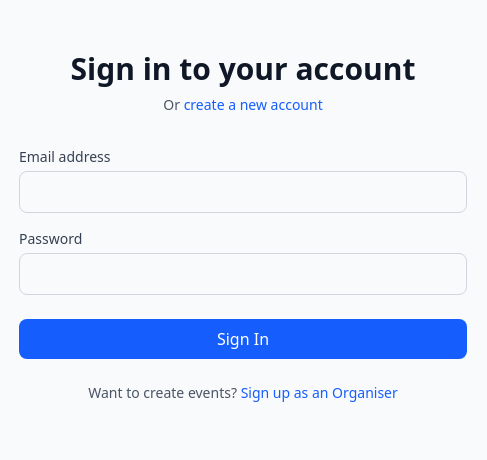
LoginView › shows "Wrong credentials" error when the server returns 401
Type "test@example.com" into the field labelled "Email address" at (243, 192), box 19,171 -> 467,213
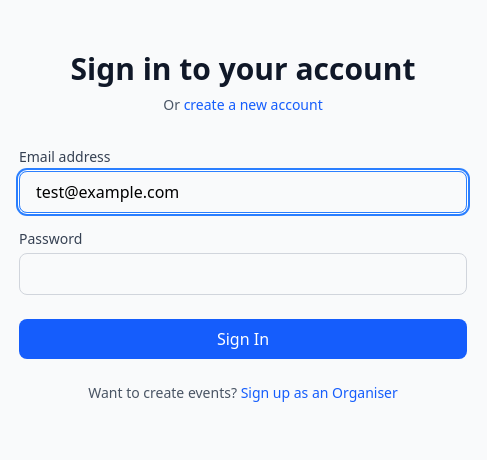
Type "wrongpassword" into the password field labelled "Password" at (243, 274), box 19,253 -> 467,295
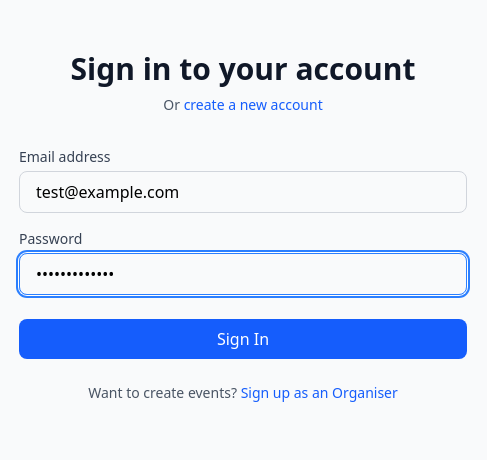
Click the button "Sign In" at (243, 339), box 19,319 -> 467,359
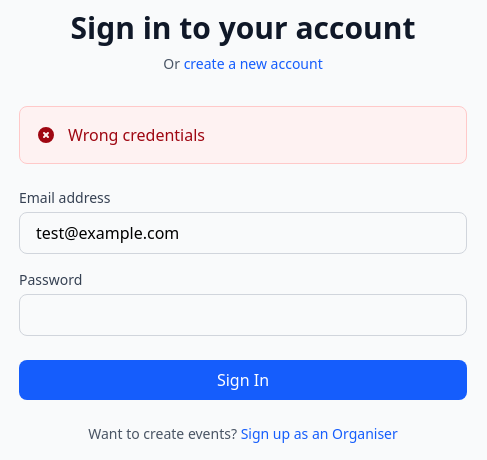
Result: the text "Wrong credentials" is shown at 68,124 -> 205,146
